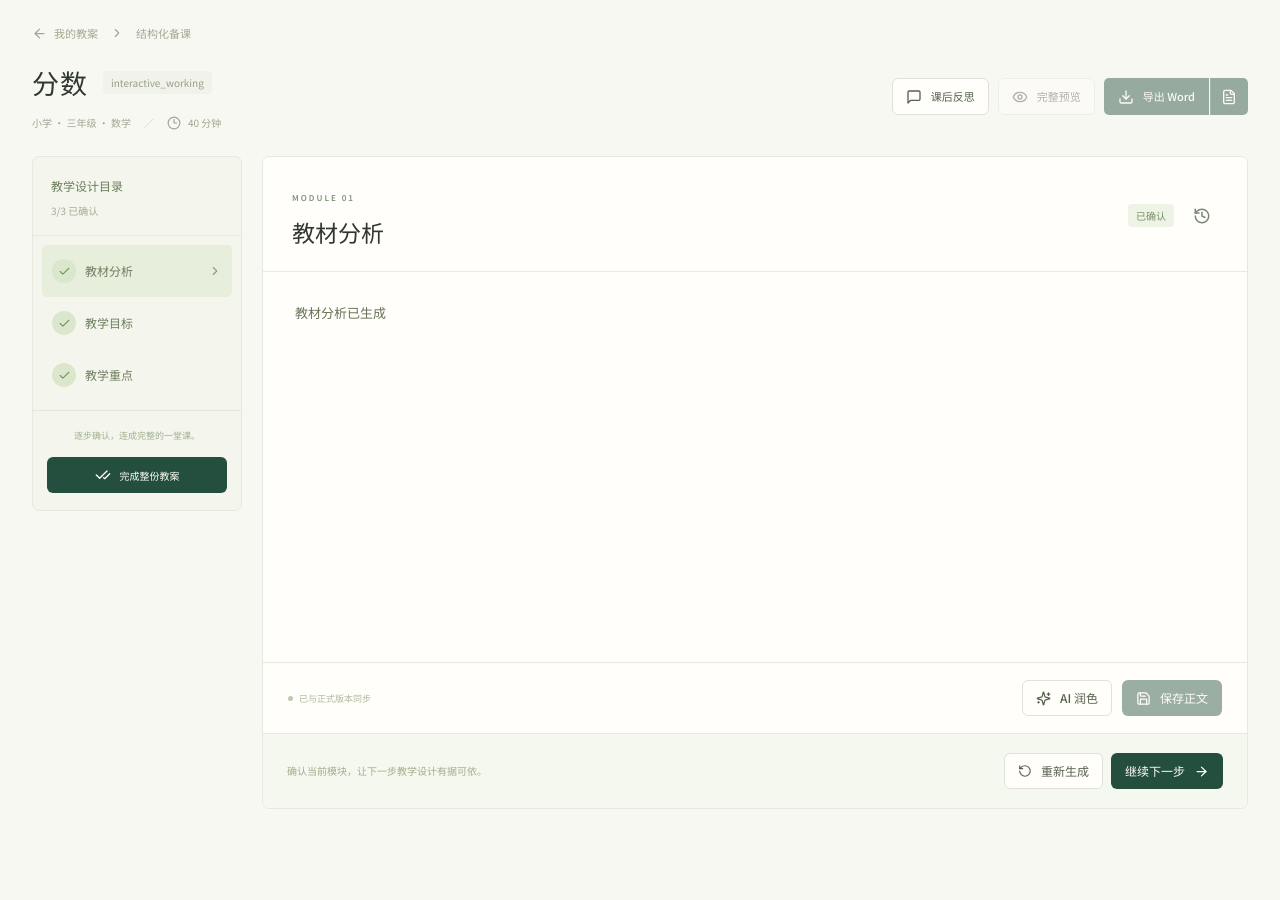
it: shows the confirmed final module without a misleading next-step action
Click the button "教学重点" at [137, 375], box [42,349,232,401]
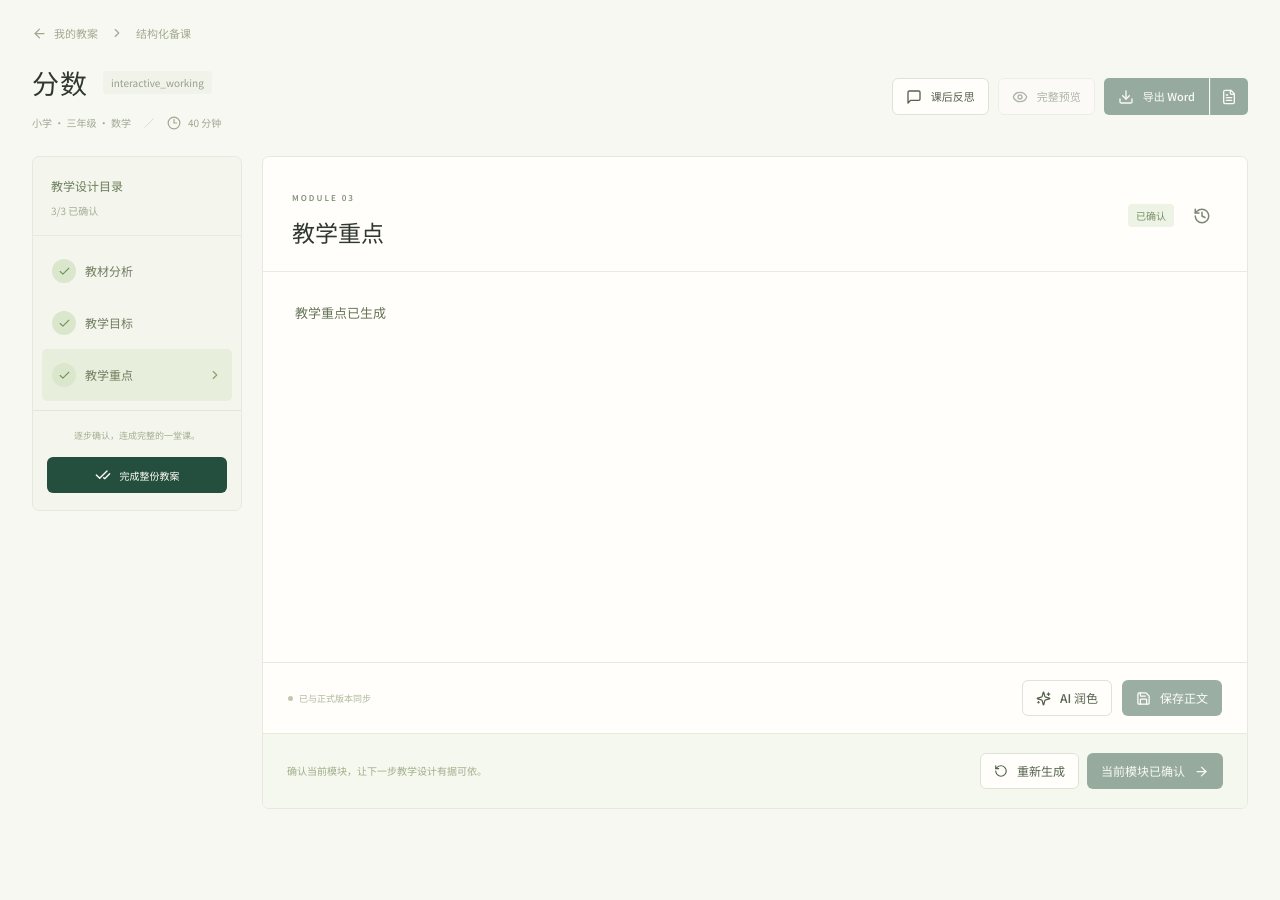
Check: the button "当前模块已确认" is disabled, box [1087,753,1223,789]
